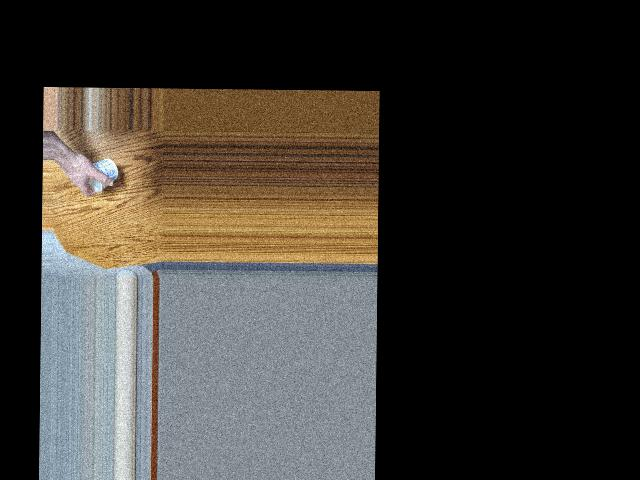cotage: (88, 154, 119, 193)
